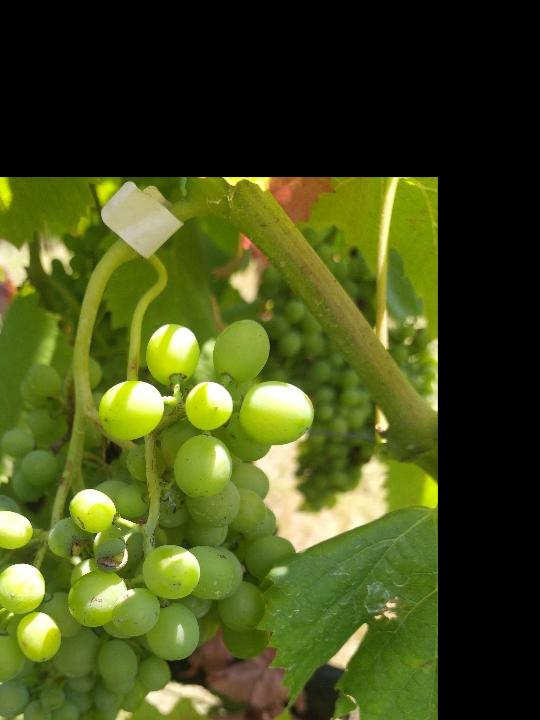grape: (0, 315, 319, 720)
